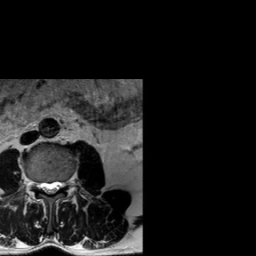CCS_stenosis: (47, 174, 53, 200)
LFS_normal: (61, 173, 68, 192)
LLS_normal: (53, 174, 61, 196)
RFS_normal: (33, 172, 40, 195)
RLS_normal: (40, 175, 47, 197)
